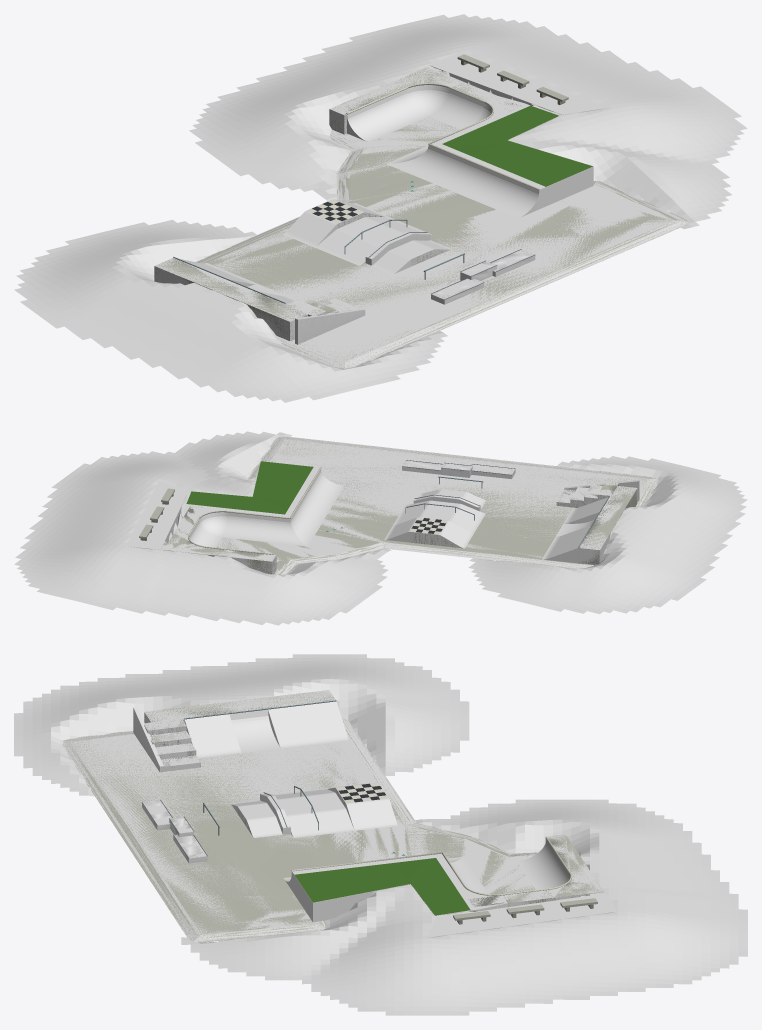
The model's file is skatepark.glb.
3 renders of one model, top to bottom at view 1: azimuth 30°, elevation 25°; view 2: azimuth 150°, elevation 25°; view 3: azimuth 270°, elevation 25°, orthographic. The views are drawn at different scales.
Visible parts, largest first — view 1: COL_grass_plaza_berm, COL_concrete_continuous_concrete, VIS_floor, COL_concrete_rolled_perimeter_apron, VIS_turf, VIS_concrete, COL_concrete_east_quarter, COL_concrete_bench_shoulder, COL_concrete_western_deck, COL_concrete_central_low_bank, COL_concrete_bowl_north, COL_concrete_east_upper_deck (+12 smaller); view 2: COL_grass_plaza_berm, COL_concrete_continuous_concrete, VIS_floor, COL_concrete_rolled_perimeter_apron, VIS_concrete, VIS_turf, COL_concrete_bench_shoulder, COL_concrete_east_quarter, COL_concrete_bowl_south, COL_concrete_central_low_bank, COL_concrete_central_high_table, COL_concrete_western_deck (+16 smaller); view 3: COL_grass_plaza_berm, VIS_floor, COL_concrete_continuous_concrete, COL_concrete_rolled_perimeter_apron, VIS_turf, VIS_concrete, COL_concrete_bench_shoulder, COL_concrete_west_bank_north, COL_concrete_central_low_bank, COL_concrete_east_upper_deck, COL_concrete_western_deck, COL_concrete_west_bank_south (+10 smaller).
Part boxes in pixels (bbox=[...]): COL_grass_plaza_berm: bbox=[14, 14, 747, 402]; COL_concrete_continuous_concrete: bbox=[210, 116, 672, 360]; VIS_floor: bbox=[196, 117, 687, 367]; COL_concrete_rolled_perimeter_apron: bbox=[196, 130, 687, 368]; VIS_turf: bbox=[442, 105, 592, 186]; VIS_concrete: bbox=[154, 54, 568, 340]; COL_concrete_east_quarter: bbox=[408, 145, 539, 218]; COL_concrete_bench_shoulder: bbox=[429, 52, 606, 114]; COL_concrete_western_deck: bbox=[154, 258, 308, 341]; COL_concrete_central_low_bank: bbox=[315, 216, 431, 265]; COL_concrete_bowl_north: bbox=[347, 89, 427, 142]; COL_concrete_east_upper_deck: bbox=[431, 103, 593, 208]; COL_grass_plaza_berm: bbox=[14, 431, 747, 625]; COL_concrete_continuous_concrete: bbox=[217, 439, 647, 574]; VIS_floor: bbox=[216, 436, 657, 574]; COL_concrete_rolled_perimeter_apron: bbox=[248, 436, 657, 574]; VIS_concrete: bbox=[139, 482, 637, 573]; VIS_turf: bbox=[186, 461, 313, 514]; COL_concrete_bench_shoulder: bbox=[126, 480, 188, 549]; COL_concrete_east_quarter: bbox=[290, 469, 344, 536]; COL_concrete_bowl_south: bbox=[223, 512, 290, 543]; COL_concrete_central_low_bank: bbox=[393, 500, 485, 533]; COL_concrete_central_high_table: bbox=[384, 517, 473, 548]; COL_concrete_western_deck: bbox=[578, 486, 637, 565]; COL_grass_plaza_berm: bbox=[14, 654, 747, 1015]; VIS_floor: bbox=[63, 718, 536, 942]; COL_concrete_continuous_concrete: bbox=[75, 734, 534, 934]; COL_concrete_rolled_perimeter_apron: bbox=[62, 717, 538, 942]; VIS_turf: bbox=[294, 858, 470, 915]; VIS_concrete: bbox=[144, 690, 603, 924]; COL_concrete_bench_shoulder: bbox=[427, 893, 617, 937]; COL_concrete_west_bank_north: bbox=[268, 701, 349, 748]; COL_concrete_central_low_bank: bbox=[272, 788, 354, 837]; COL_concrete_east_upper_deck: bbox=[292, 853, 479, 922]; COL_concrete_western_deck: bbox=[144, 690, 335, 722]; COL_concrete_west_bank_south: bbox=[184, 714, 241, 758].
Bounding box in the file's own units: 55.2 × 2.14 × 47.4.
